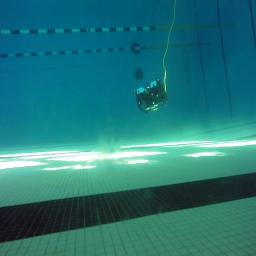front: (133, 78, 169, 112)
